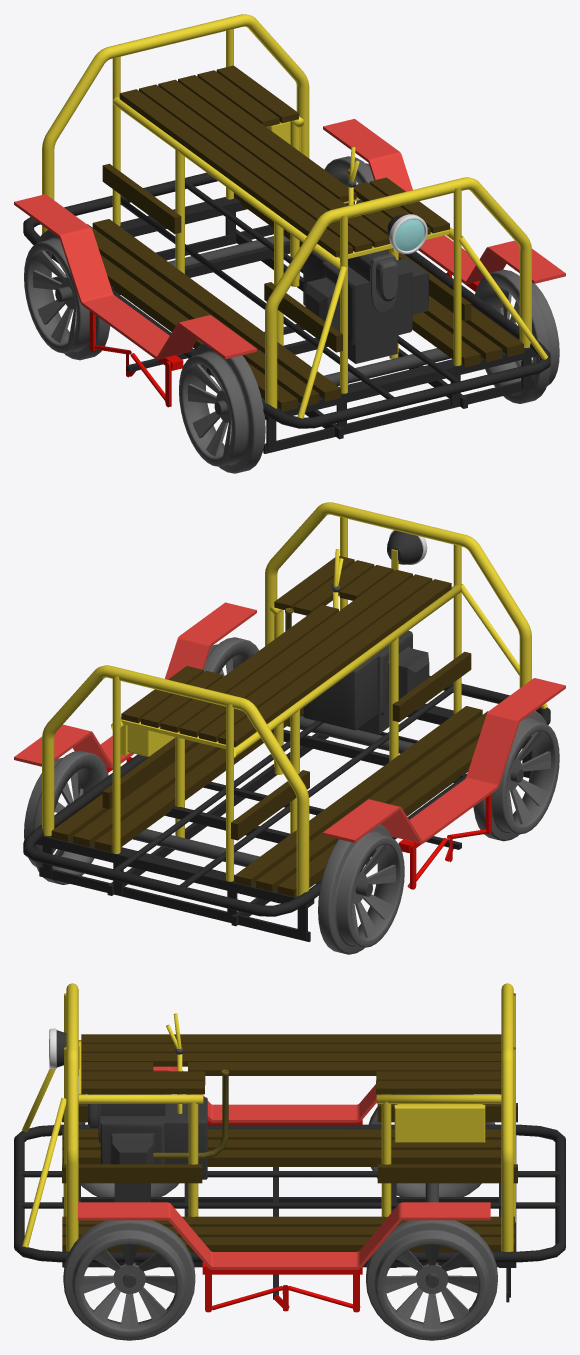
The model's file is DrezinaUV 1.fbx.
The picture shows the model from 3 angles, top to bottom: view 1: azimuth 30°, elevation 25°; view 2: azimuth 150°, elevation 25°; view 3: azimuth 270°, elevation 25°; orthographic projection. The views are drawn at different scales.
Visible parts, largest first — view 1: Cube.002, Cube.012, Cylinder.003, Cube.020, Cube.019; view 2: Cube.002, Cube.012, Cylinder.003; view 3: Cube.002, Cube.012, Cylinder.003.
Boxes of the visible parts, left/top/right/bottom form: Cube.002: left=14, top=14, right=565, bottom=473; Cube.012: left=303, top=250, right=428, bottom=363; Cylinder.003: left=387, top=214, right=427, bottom=254; Cube.020: left=376, top=258, right=398, bottom=301; Cube.019: left=370, top=253, right=397, bottom=313; Cube.002: left=14, top=502, right=565, bottom=954; Cube.012: left=303, top=630, right=429, bottom=734; Cylinder.003: left=387, top=530, right=427, bottom=564; Cube.002: left=14, top=983, right=565, bottom=1340; Cube.012: left=100, top=1094, right=207, bottom=1202; Cylinder.003: left=49, top=1028, right=66, bottom=1068.
Size of the model in its own units: 12.29 by 9.18 by 17.67.
